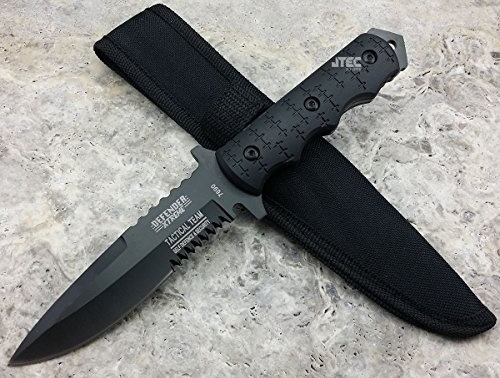knife: (2, 164, 238, 371)
